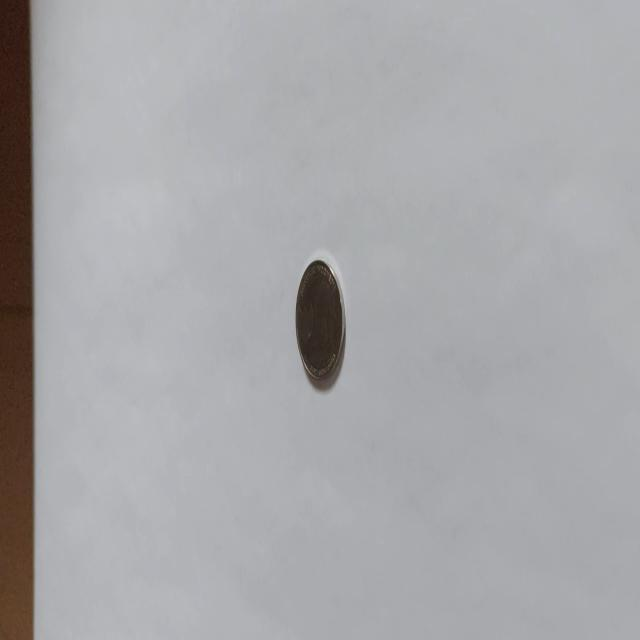seribu rupiah koin: (294, 256, 346, 384)
